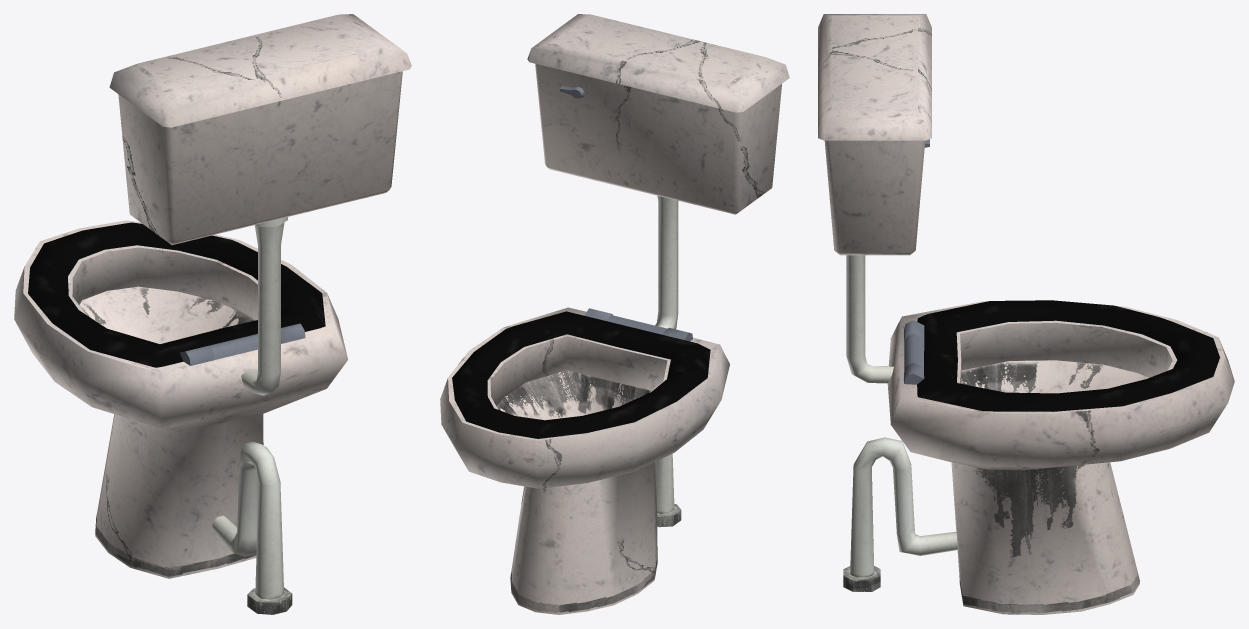
The model's file is uploads_files_2632393_Toilet.fbx.
3 views of the same model, side by side, from view 1: azimuth 30°, elevation 25°; view 2: azimuth 150°, elevation 25°; view 3: azimuth 270°, elevation 25° (orthographic). The views are drawn at different scales.
Parts seen in each view (by area): view 1: Toilet1; view 2: Toilet1; view 3: Toilet1.
Boxes of the visible parts, x1,y1,x2,y2 form: Toilet1: (14, 14, 411, 614); Toilet1: (440, 14, 789, 614); Toilet1: (818, 14, 1234, 614).
Bounding box in the file's own units: 170 × 340 × 247.
